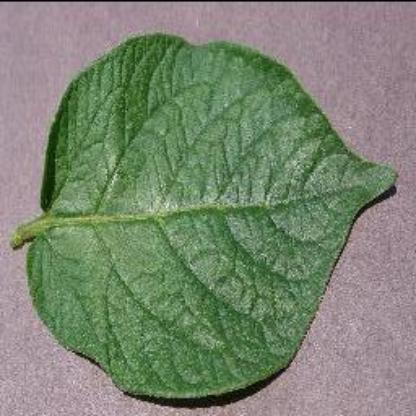Healthy-plant: (8, 28, 396, 406)
